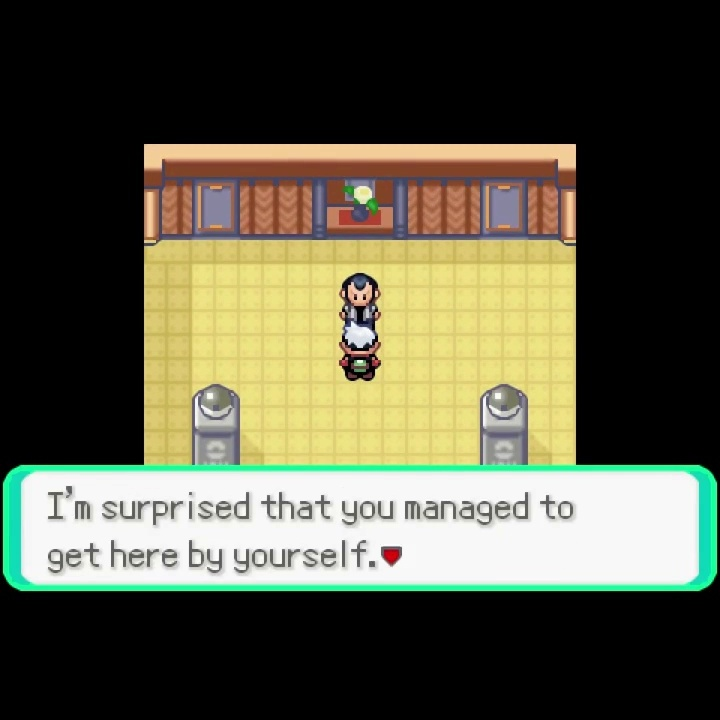agent: (336, 324, 385, 384)
npc: (337, 271, 384, 324)
